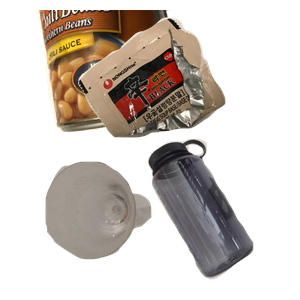glass: (43, 159, 187, 300)
metal: (34, 10, 213, 135)
plastic: (145, 136, 300, 300)
trash: (76, 15, 300, 145)
